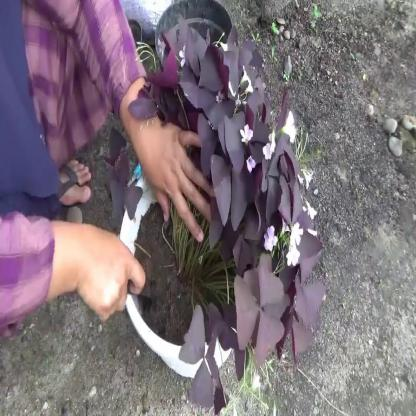Kupu-Kupu: (238, 267, 297, 368), (271, 140, 317, 255), (178, 27, 229, 109), (219, 119, 255, 234), (186, 303, 220, 407)
